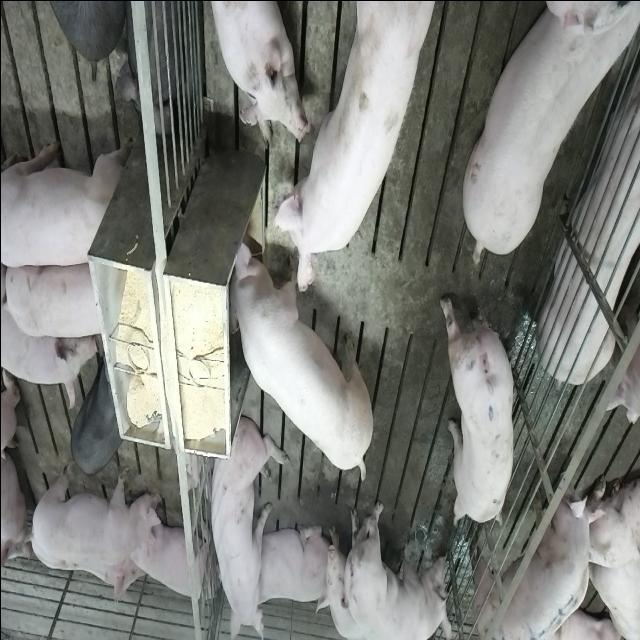Feeding: (219, 230, 369, 480)
Sitting: (202, 413, 286, 635), (332, 495, 450, 639)
Standing: (267, 4, 439, 292), (456, 4, 634, 266), (475, 453, 609, 640), (439, 288, 517, 528), (2, 129, 126, 269), (25, 458, 161, 562), (4, 296, 99, 408), (3, 259, 108, 337), (66, 366, 120, 476)
Sternal_lying: (539, 51, 640, 418), (202, 0, 304, 144), (132, 508, 210, 604), (248, 518, 330, 608)
